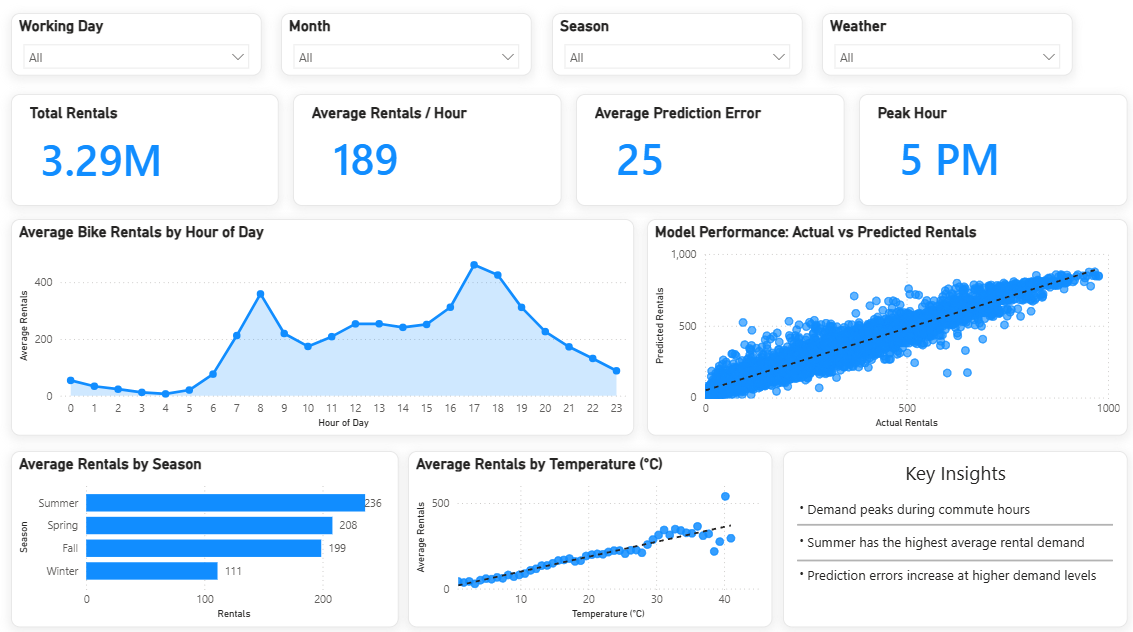

Layout of this report page (visuals, bound fields, positions):
{"tool":"powerbi","page":{"name":"Page 1","canvas":[1280,720],"ordinal":0},"visuals":[{"type":"cardVisual","title":"Total Rentals","fields":{"Data":["Sum(bike_dashboard_data (2).actual_count)"]},"box":[17.9,115,299.3,125.1],"z":0},{"type":"cardVisual","title":"Average Rentals / Hour","fields":{"Data":["bike_dashboard_data (2).Avg Rentals / Hour"]},"box":[333.2,115.1,300,124.9],"z":1000},{"type":"cardVisual","title":"Average Prediction Error","fields":{"Data":["bike_dashboard_data (2).Avg Prediction Error"]},"box":[649.1,115.1,300,124.9],"z":2000},{"type":"cardVisual","title":"Peak Hour","fields":{"Data":["bike_dashboard_data (2).Peak Hour"]},"box":[964.9,115.1,300,124.9],"z":3000},{"type":"lineChart","title":"Average Bike Rentals by Hour of Day","fields":{"Category":["bike_dashboard_data (2).hour"],"Y":["Avg(bike_dashboard_data (2).actual_count)"]},"box":[17.3,254.8,695.9,242.5],"z":4000},{"type":"scatterChart","title":"Model Performance: Actual vs Predicted Rentals","fields":{"X":["Sum(bike_dashboard_data (2).actual_count)"],"Y":["Sum(bike_dashboard_data (2).predicted_count)"],"Category":["bike_dashboard_data (2).row_id"]},"box":[728,254.8,536.9,242.5],"z":5000},{"type":"clusteredBarChart","title":"Average Rentals by Season","fields":{"Category":["bike_dashboard_data (2).Season Name"],"Y":["Avg(bike_dashboard_data (2).actual_count)"]},"box":[17.3,514,433,196.7],"z":6000},{"type":"scatterChart","title":"Average Rentals by Temperature (°C)","fields":{"X":["bike_dashboard_data (2).Temperature_C"],"Y":["Avg(bike_dashboard_data (2).actual_count)"]},"box":[461.4,514,407,196.7],"z":7000},{"type":"textbox","title":"Key Insights","box":[879.6,514,385.4,196.7],"z":8000},{"type":"slicer","title":"Season","fields":{"Values":["bike_dashboard_data (2).Season Name"]},"box":[621.9,24.7,280.2,69.9],"z":9000},{"type":"slicer","title":"Weather","fields":{"Values":["bike_dashboard_data (2).Weather Name"]},"box":[924.1,24.7,280.2,69.9],"z":10000},{"type":"slicer","title":"Month","fields":{"Values":["bike_dashboard_data (2).month_name"]},"box":[319.6,24.7,280.2,69.9],"z":11000},{"type":"slicer","title":"Working Day","fields":{"Values":["bike_dashboard_data (2).work_day"]},"box":[17.3,24.7,280.2,69.9],"z":12000},{"type":"shape","box":[895.8,472.5,353.3,247.5],"z":13000},{"type":"shape","box":[895.8,551.8,352.9,168.7],"z":13001}]}

Visuals, with their boxes in screenshot pixels (x1, y1, x2, y2), scaled from the page's 1280x720 canvas onto the 1133x632 screenshot:
"Total Rentals" cardVisual: [16,101,281,211]
"Average Rentals / Hour" cardVisual: [295,101,560,211]
"Average Prediction Error" cardVisual: [575,101,840,211]
"Peak Hour" cardVisual: [854,101,1120,211]
"Average Bike Rentals by Hour of Day" lineChart: [15,224,631,437]
"Model Performance: Actual vs Predicted Rentals" scatterChart: [644,224,1120,437]
"Average Rentals by Season" clusteredBarChart: [15,451,399,624]
"Average Rentals by Temperature (°C)" scatterChart: [408,451,769,624]
"Key Insights" textbox: [779,451,1120,624]
"Season" slicer: [550,22,798,83]
"Weather" slicer: [818,22,1066,83]
"Month" slicer: [283,22,531,83]
"Working Day" slicer: [15,22,263,83]
shape: [793,415,1106,631]
shape: [793,484,1105,631]
